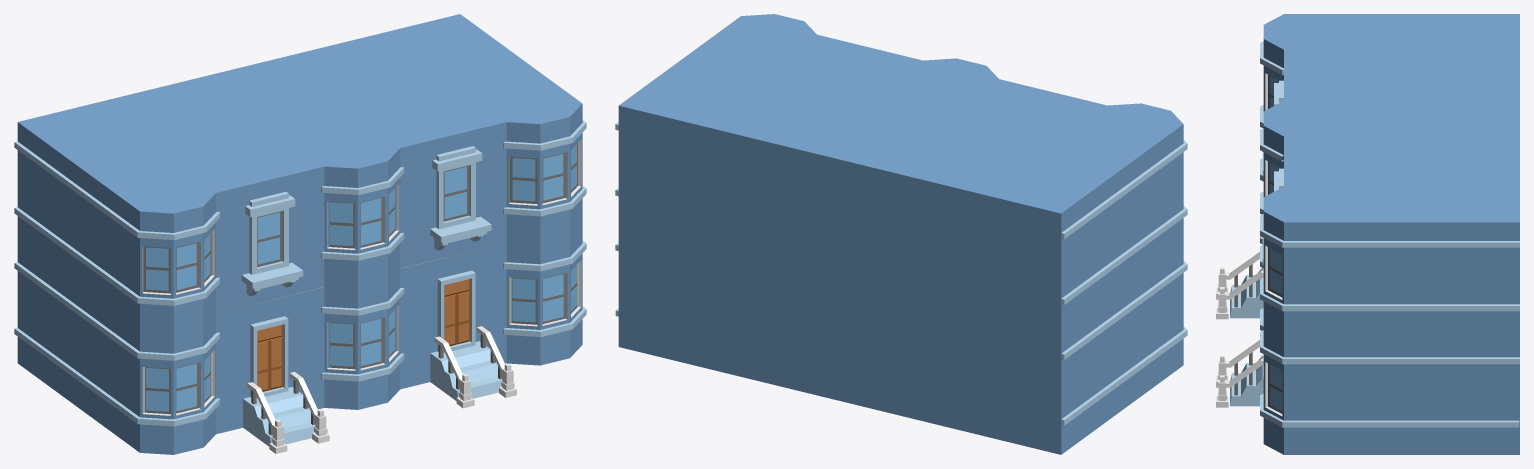
Rendered from House_2.fbx.
3 renders of one model, left to right at view 1: azimuth 30°, elevation 25°; view 2: azimuth 150°, elevation 25°; view 3: azimuth 270°, elevation 25°, orthographic. The views are drawn at different scales.
Parts seen in each view (by area): view 1: House_2.2, House_2.1; view 2: House_2.2, House_2.1; view 3: House_2.2, House_2.1.
Part boxes in pixels (x1,y1,x2,y2): House_2.2: [14, 14, 586, 334]; House_2.1: [14, 224, 586, 454]; House_2.2: [615, 14, 1187, 333]; House_2.1: [615, 226, 1187, 454]; House_2.2: [1260, 14, 1519, 338]; House_2.1: [1216, 158, 1519, 454].
Bounding box in the file's own units: 955 × 490 × 580.
